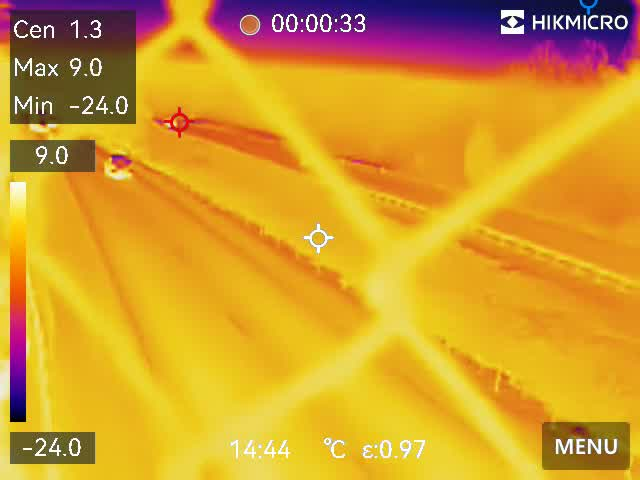lightTruck: (101, 150, 134, 184)
